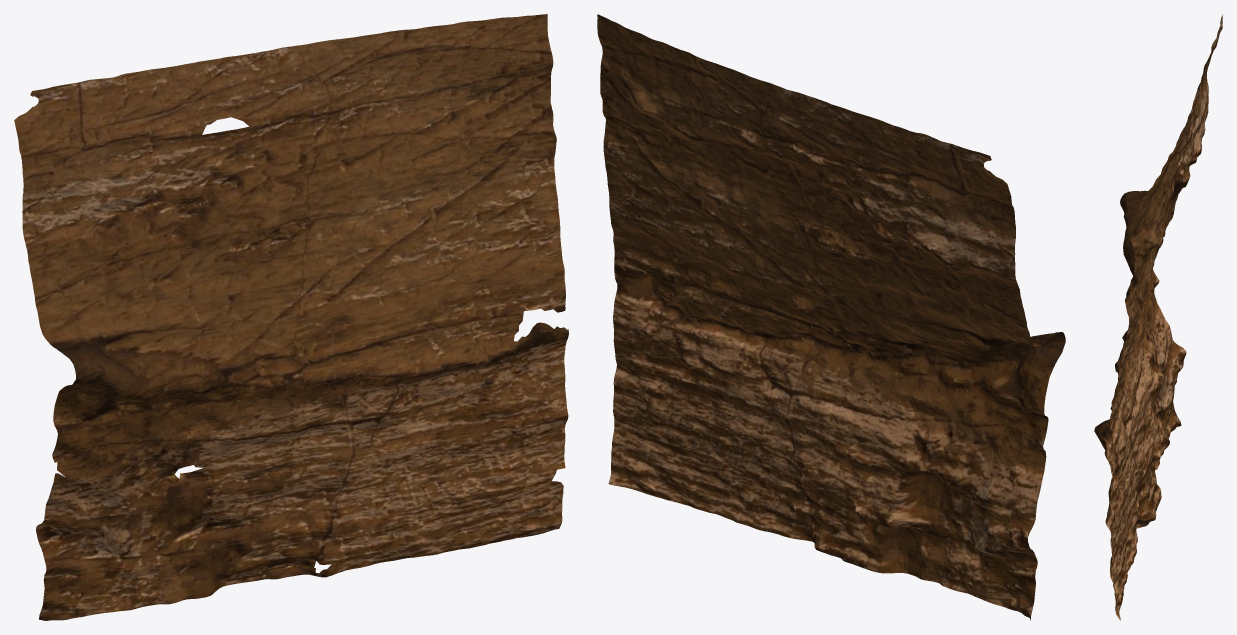
The picture shows the model from 3 angles, left to right: view 1: azimuth 30°, elevation 25°; view 2: azimuth 150°, elevation 25°; view 3: azimuth 270°, elevation 25°; orthographic projection. The views are drawn at different scales.
Bounding box in the file's own units: 1.04 × 1.04 × 0.2901.
Materials: 3 (3 with a texture image).
